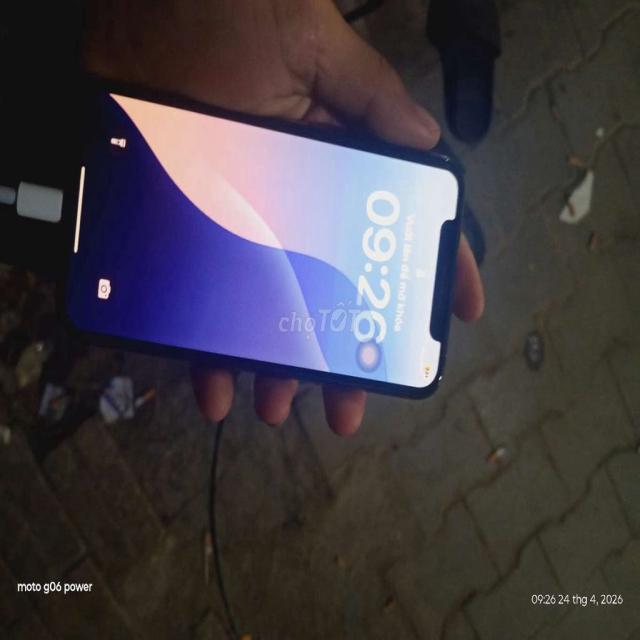gen_x_xs: (41, 56, 477, 435)
